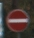No entry: (5, 6, 28, 32)
